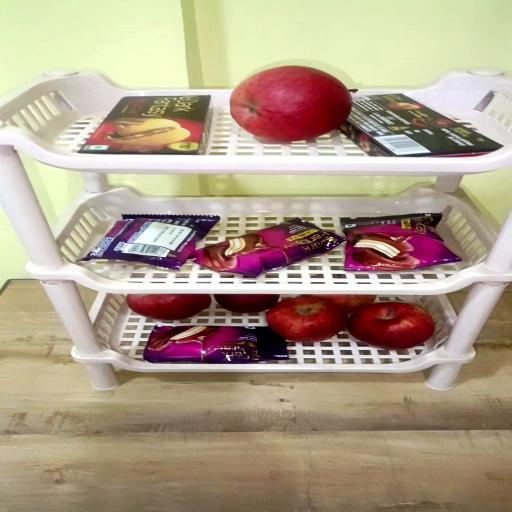Apple: (230, 65, 353, 144), (348, 303, 434, 349), (268, 297, 348, 343), (125, 294, 210, 321), (313, 295, 376, 316), (216, 294, 281, 314)
Choco Fills: (341, 93, 501, 157), (76, 94, 208, 154)
Choco Pie: (193, 220, 345, 278), (78, 216, 219, 272), (341, 215, 461, 273), (146, 326, 289, 364)
